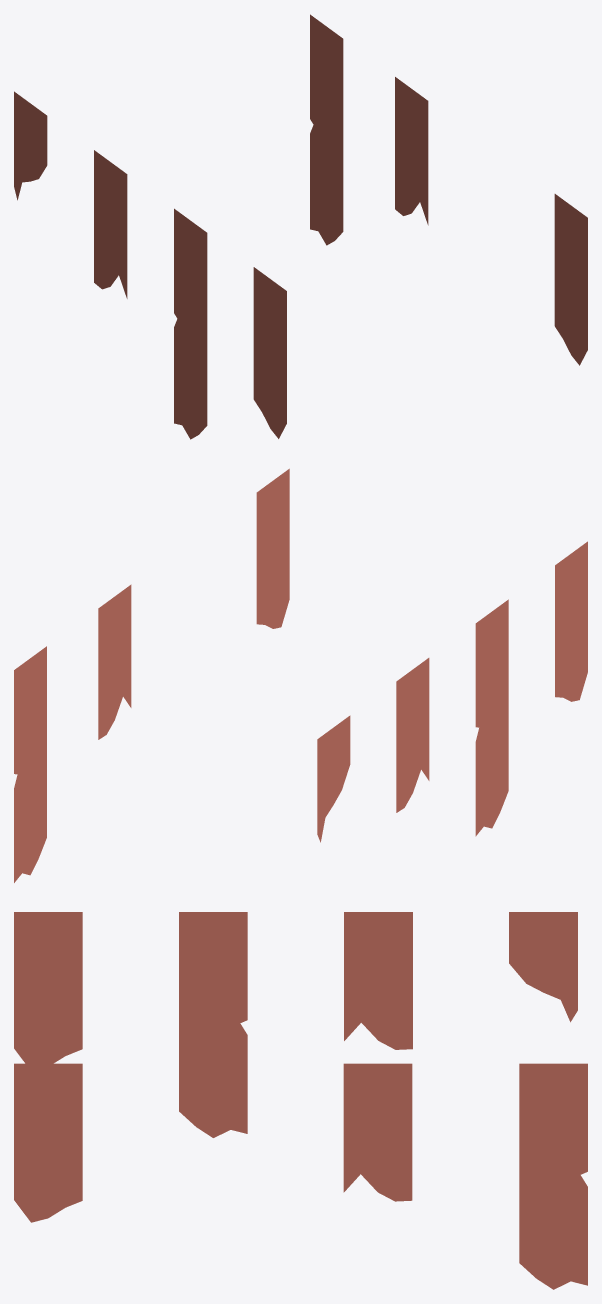
The model's file is flag.fbx.
3 renders of one model, top to bottom at view 1: azimuth 30°, elevation 25°; view 2: azimuth 150°, elevation 25°; view 3: azimuth 270°, elevation 25°, orthographic. The views are drawn at different scales.
Visible parts, largest first — view 1: Plane.033, Plane.004, Plane.003, Plane.009, Plane.005, Plane.010, Plane.008; view 2: Plane.004, Plane.033, Plane.009, Plane.003, Plane.005, Plane.010, Plane.008; view 3: Plane.033, Plane.004, Plane.009, Plane.003, Plane.010, Plane.005, Plane.008.
Part boxes in pixels (x1,y1,x2,y2): Plane.033: [310, 14, 343, 245]; Plane.004: [174, 208, 207, 439]; Plane.003: [253, 267, 286, 438]; Plane.009: [554, 194, 587, 365]; Plane.005: [94, 150, 127, 298]; Plane.010: [395, 77, 428, 225]; Plane.008: [14, 91, 47, 200]; Plane.004: [475, 599, 508, 836]; Plane.033: [14, 646, 46, 882]; Plane.009: [256, 468, 289, 628]; Plane.003: [555, 541, 587, 701]; Plane.005: [396, 658, 429, 812]; Plane.010: [98, 584, 131, 739]; Plane.008: [317, 715, 350, 842]; Plane.033: [519, 1063, 587, 1289]; Plane.004: [179, 912, 247, 1137]; Plane.009: [14, 1063, 82, 1222]; Plane.003: [14, 912, 82, 1063]; Plane.010: [343, 1063, 412, 1201]; Plane.005: [344, 912, 412, 1049]; Plane.008: [509, 912, 577, 1022].
Bounding box in the file's own units: 101 × 70.57 × 162.
